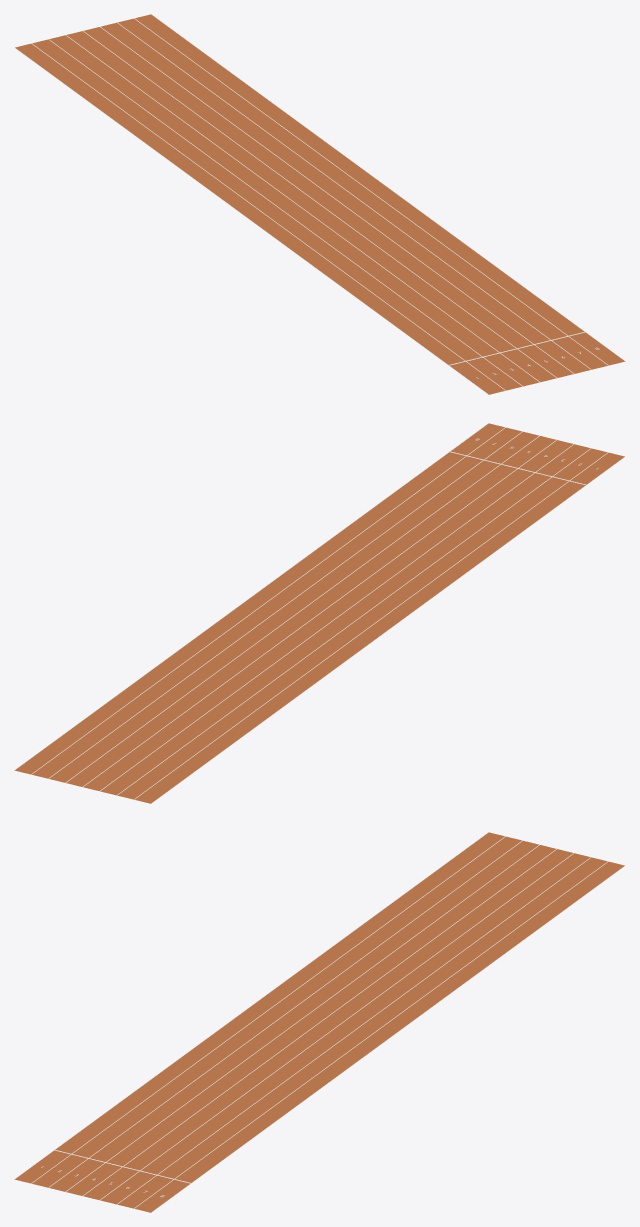
File: track.fbx
3 views of the same model, one above another, from view 1: azimuth 30°, elevation 25°; view 2: azimuth 150°, elevation 25°; view 3: azimuth 330°, elevation 25° (orthographic).
Parts seen in each view (by area): view 1: Track, Lane_3, Lane_6, Lane_0, Lane_1, Lane_2, Lane_5, Lane_7, Lane_8, Lane_4; view 2: Track, Lane_3, Lane_6, Lane_0, Lane_2, Lane_5, Lane_8, Lane_7, Lane_1, Lane_4; view 3: Track, Lane_5, Lane_2, Lane_1, Lane_3, Lane_6, Lane_7, Lane_8, Lane_0, Lane_4.
Part boxes in pixels (x1,y1,x2,y2): Track: [15, 14, 625, 394]; Lane_3: [65, 35, 539, 382]; Lane_6: [117, 22, 591, 369]; Lane_0: [14, 47, 488, 394]; Lane_1: [31, 43, 505, 390]; Lane_2: [48, 39, 522, 386]; Lane_5: [100, 26, 574, 373]; Lane_7: [134, 18, 608, 365]; Lane_8: [151, 14, 625, 361]; Lane_4: [83, 31, 556, 377]; Track: [14, 423, 624, 803]; Lane_3: [100, 444, 574, 791]; Lane_6: [48, 431, 522, 778]; Lane_0: [151, 456, 625, 803]; Lane_2: [117, 448, 591, 795]; Lane_5: [65, 435, 539, 782]; Lane_8: [14, 423, 488, 770]; Lane_7: [31, 427, 505, 774]; Lane_1: [134, 452, 608, 799]; Lane_4: [83, 440, 556, 786]; Track: [14, 832, 624, 1212]; Lane_5: [100, 853, 574, 1200]; Lane_2: [48, 840, 522, 1187]; Lane_1: [31, 836, 505, 1183]; Lane_3: [65, 844, 539, 1191]; Lane_6: [117, 857, 591, 1204]; Lane_7: [134, 861, 608, 1208]; Lane_8: [151, 865, 625, 1212]; Lane_0: [14, 832, 488, 1179]; Lane_4: [83, 849, 556, 1195].
Size of the model in its own units: 1005 by 4.61 by 6000.
